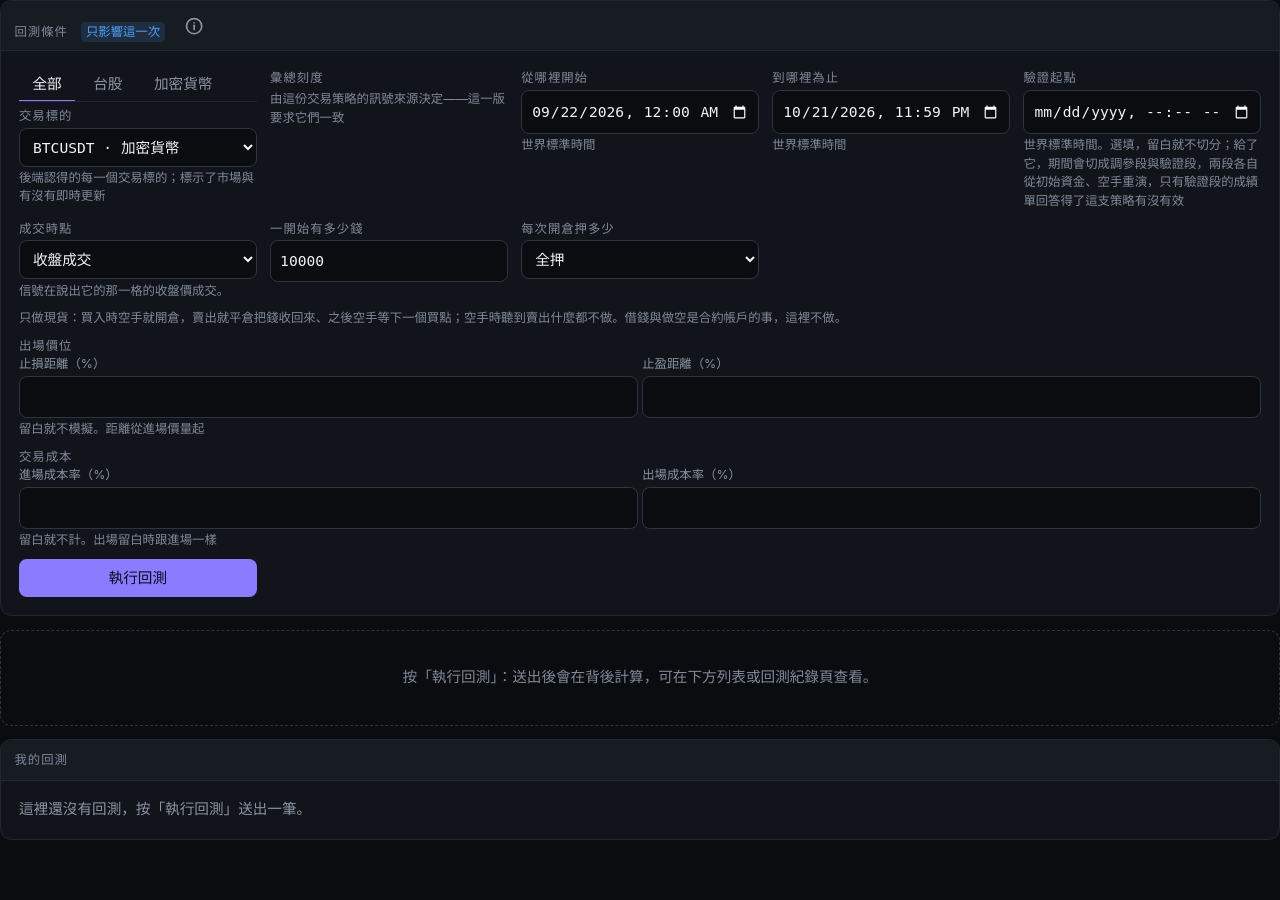
Test: TradingStrategyBacktestPane › 重演這一份 › 送出之後說出輪次編號，那一筆就在下方列表裡
Select "BTCUSDT · 加密貨幣" in the dropdown with test id "symbol-select": (138, 147) [19,128,257,166]
Submit the form
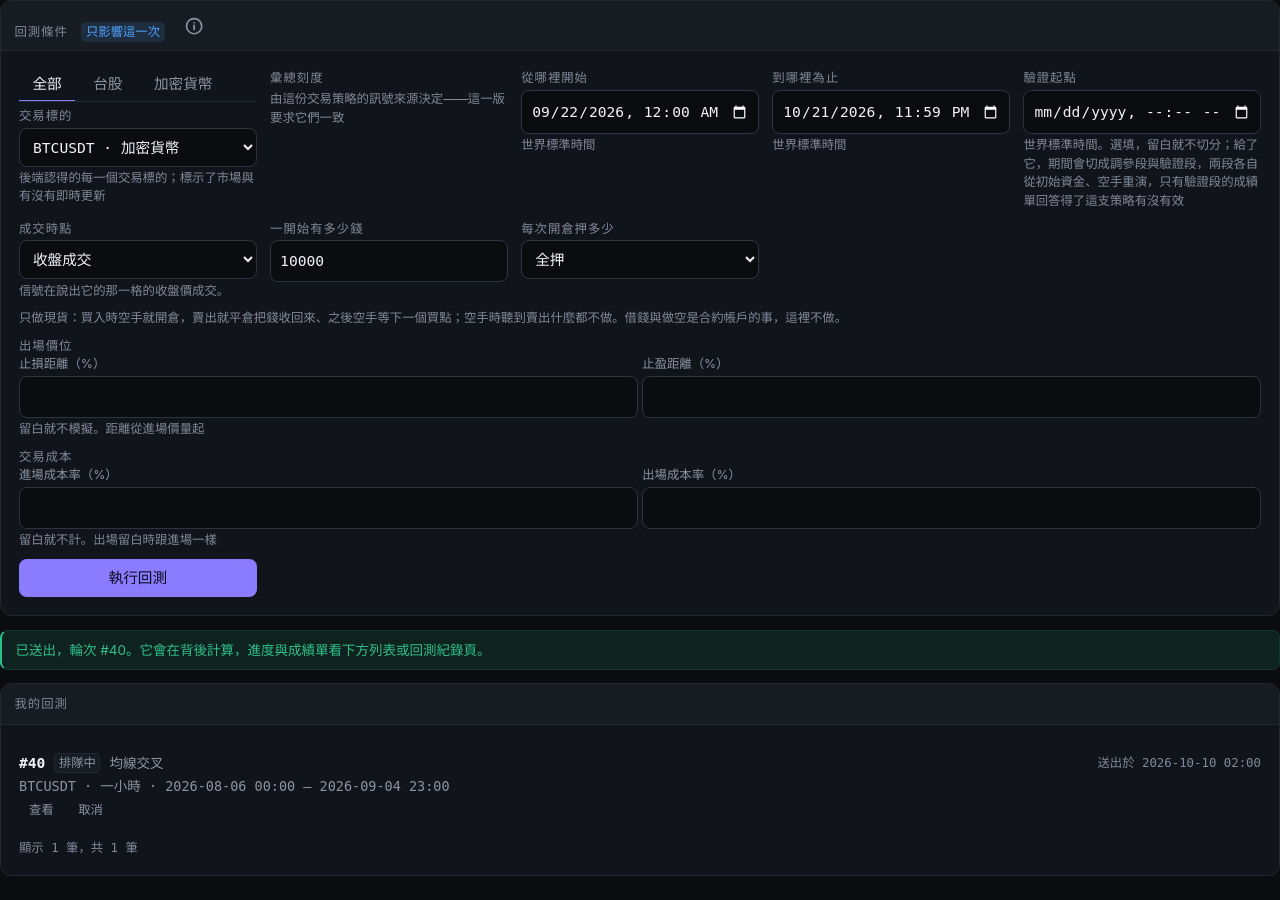
expect the message with test id "backtest-submitted-alert" shows "已送出，輪次 #40": met, box [16,642,491,658]
expect the number of list items with test id "backtest-run-row" is 1: met, box [19,743,1261,830]
